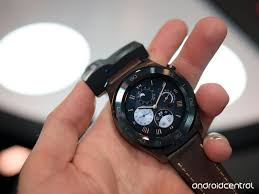clock: (125, 76, 187, 137)
